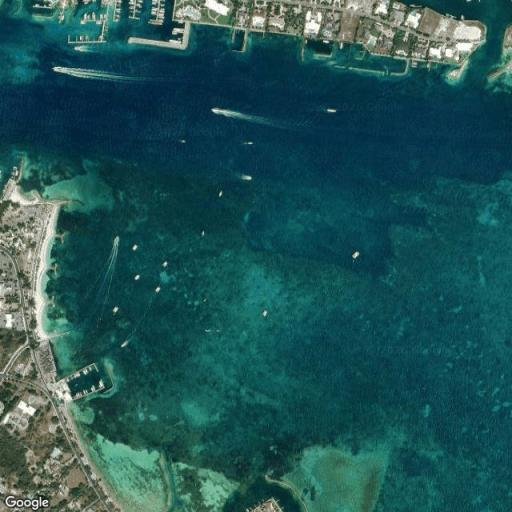ship: (212, 107, 234, 118), (52, 67, 73, 75), (241, 174, 253, 181), (120, 341, 130, 348), (114, 237, 120, 246), (261, 310, 268, 317), (169, 40, 181, 44), (328, 108, 337, 113), (113, 306, 119, 313), (132, 245, 139, 251), (161, 261, 168, 267), (174, 28, 184, 32), (155, 286, 161, 292), (245, 141, 254, 145), (179, 139, 187, 143), (92, 12, 96, 20), (135, 275, 140, 280), (91, 385, 95, 391), (83, 370, 87, 376), (99, 381, 103, 387), (201, 231, 205, 237), (219, 190, 222, 197), (84, 13, 87, 20), (100, 14, 103, 20), (85, 370, 89, 374), (83, 390, 86, 395), (79, 391, 82, 396), (152, 8, 157, 11), (85, 389, 88, 393), (77, 392, 80, 396), (76, 393, 79, 397), (75, 394, 78, 398), (80, 35, 82, 41), (159, 17, 165, 19), (152, 12, 156, 15)
